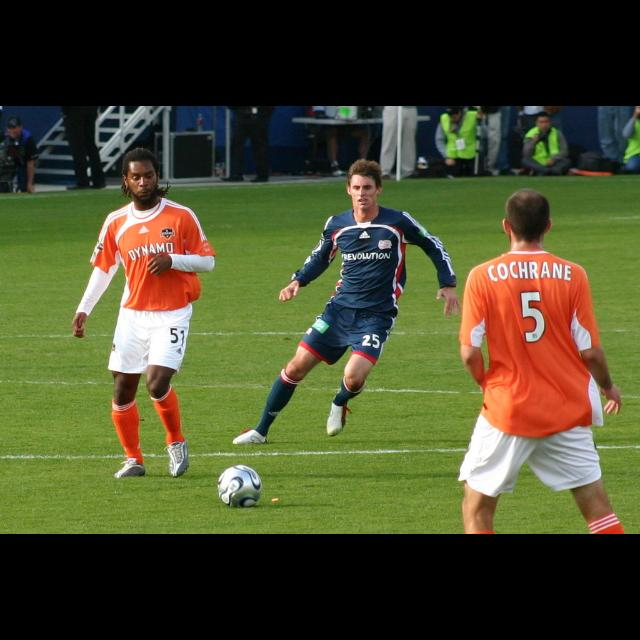Football: (216, 464, 264, 506)
